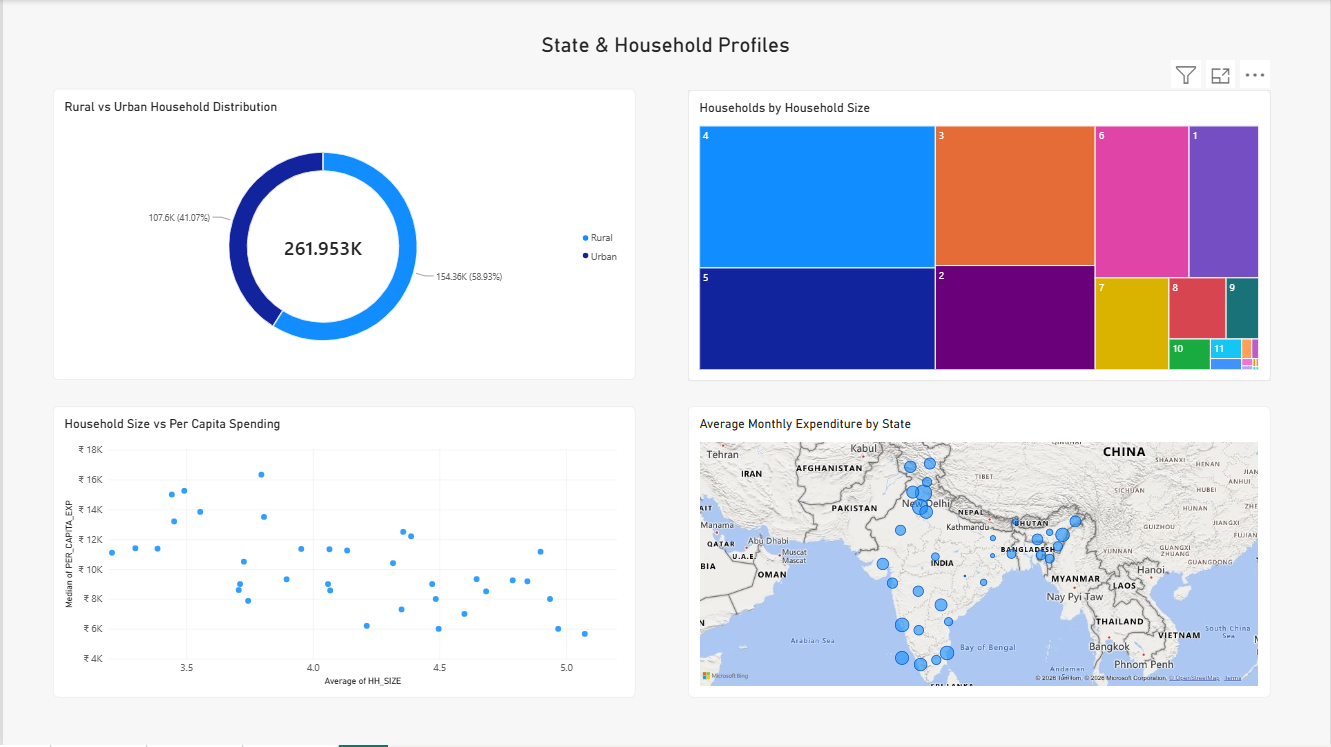

What the dashboard file says about the page in this screenshot:
{"tool":"powerbi","page":{"name":"Page 3","canvas":[1920,1080],"ordinal":2},"visuals":[{"type":"textbox","title":"State & Household Profiles","box":[642.4,47.1,633.4,81.4],"z":0},{"type":"donutChart","title":"Rural vs Urban Household Distribution","fields":{"Category":["hces_visit_adjusted_household_table csv.Sector_Label"],"Y":["Count(hces_visit_adjusted_household_table csv.HH_ID)"]},"box":[72.4,128.5,843.3,421.7],"z":1},{"type":"treemap","title":"Households by Household Size","fields":{"Group":["hces_visit_adjusted_household_table csv.HH_SIZE"],"Values":["Count(hces_visit_adjusted_household_table csv.HH_ID)"]},"box":[991.7,130.3,843.3,421.7],"z":2},{"type":"scatterChart","title":"Household Size vs Per Capita Spending","fields":{"Category":["hces_visit_adjusted_household_table csv.State_Name"],"X":["Avg(hces_visit_adjusted_household_table csv.HH_SIZE)"],"Y":["Median(hces_visit_adjusted_household_table csv.PER_CAPITA_EXP)"]},"box":[72.4,588.1,843.3,421.7],"z":3},{"type":"map","title":"Average Monthly Expenditure by State","fields":{"Category":["hces_visit_adjusted_household_table csv.State_Name"],"Size":["Avg(hces_visit_adjusted_household_table csv.MONTHLY_EXP)"]},"box":[991.7,588.1,843.3,421.7],"z":4}]}

Visuals, with their boxes in screenshot pixels (x1, y1, x2, y2), scaled from the page's 1920x1080 canvas onto the 1331x747 screenshot:
"State & Household Profiles" textbox: <bbox>445, 33, 884, 89</bbox>
"Rural vs Urban Household Distribution" donutChart: <bbox>50, 89, 635, 381</bbox>
"Households by Household Size" treemap: <bbox>687, 90, 1272, 382</bbox>
"Household Size vs Per Capita Spending" scatterChart: <bbox>50, 407, 635, 698</bbox>
"Average Monthly Expenditure by State" map: <bbox>687, 407, 1272, 698</bbox>
